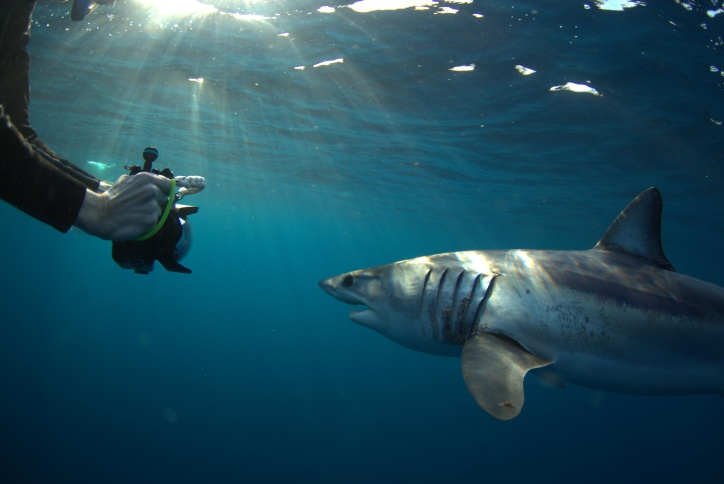Mako: (314, 173, 724, 451)
